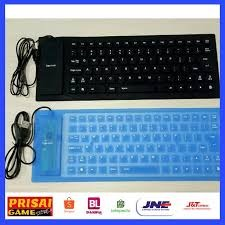keyboard: (5, 29, 222, 186)
